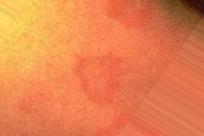Tick: (75, 49, 121, 99)
